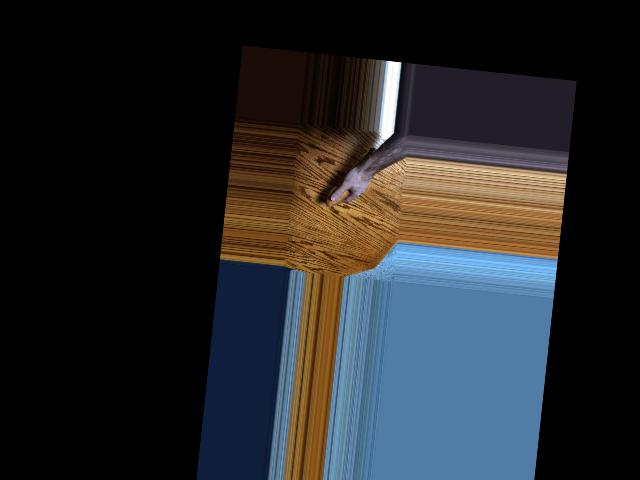sweet_potato: (325, 141, 377, 210)
